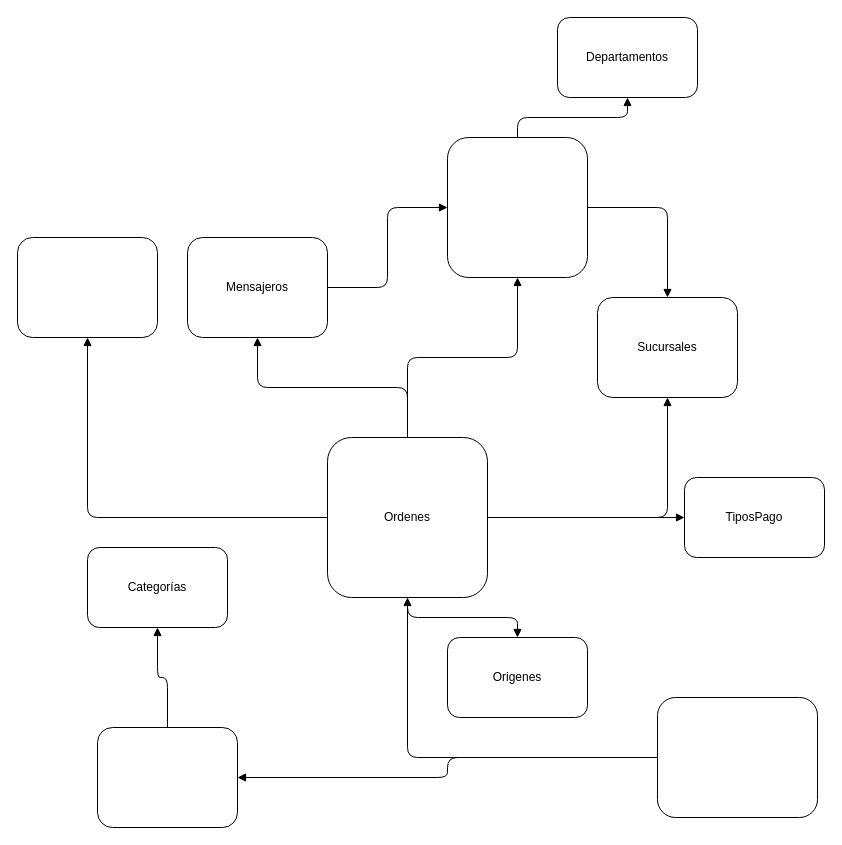
This 842x845 diagram has some shape labels left out. Each missing label, with the box of its shape:
Clientes: (16, 236, 158, 338)
DetalleOrden: (656, 696, 818, 818)
Empleados: (446, 136, 588, 278)
Productos: (96, 726, 238, 828)
